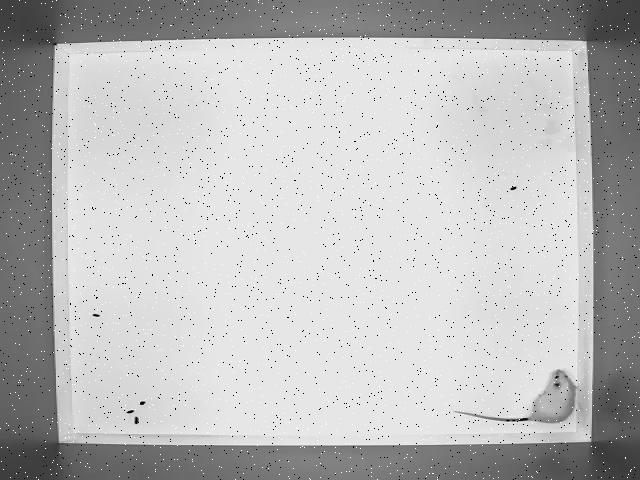Tikus: (448, 363, 584, 431)
